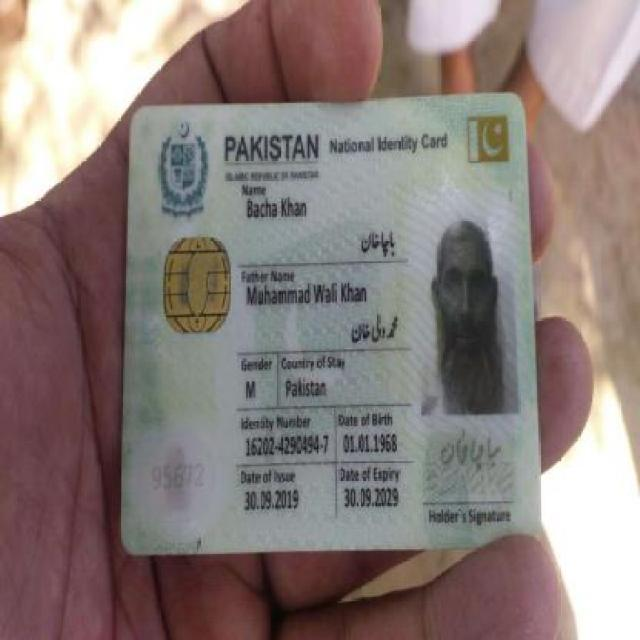Front: (117, 94, 548, 552)
